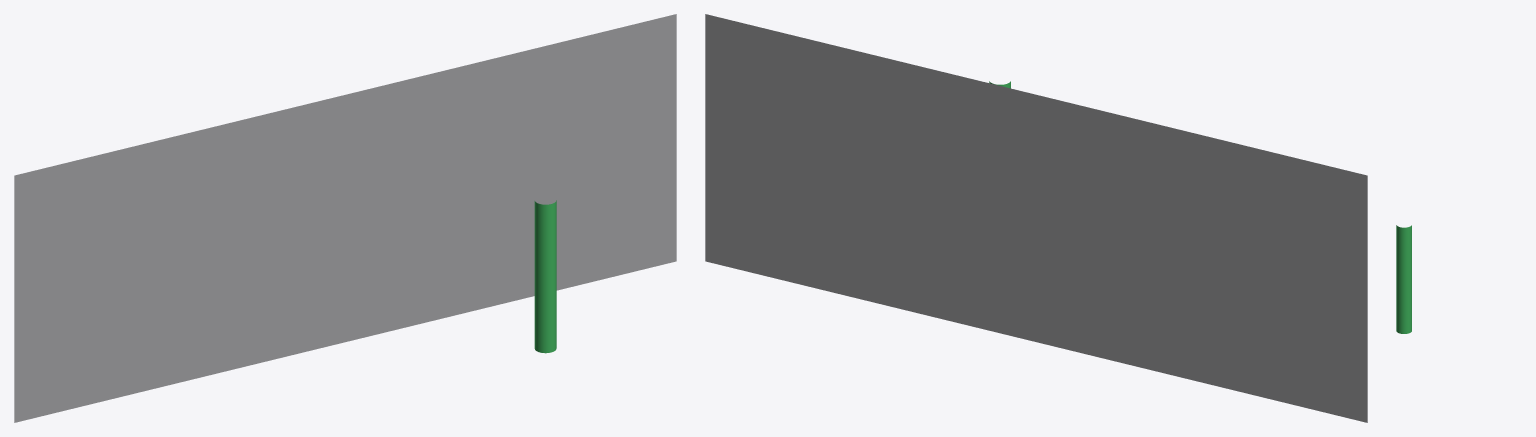
Rendered from ParallaxPillar.glb.
3 views of the same model, side by side, from view 1: azimuth 30°, elevation 25°; view 2: azimuth 150°, elevation 25°; view 3: azimuth 270°, elevation 25° (orthographic). The views are drawn at different scales.
Visible parts, largest first — view 1: background, pillar; view 2: background; view 3: pillar.
Boxes of the visible parts, box(x1,y1,x2,y2) form: background: box(14, 14, 676, 422); pillar: box(534, 200, 556, 353); background: box(705, 14, 1367, 422); pillar: box(1396, 225, 1411, 333).
Size of the model in its own units: 14 by 5 by 3.2.
